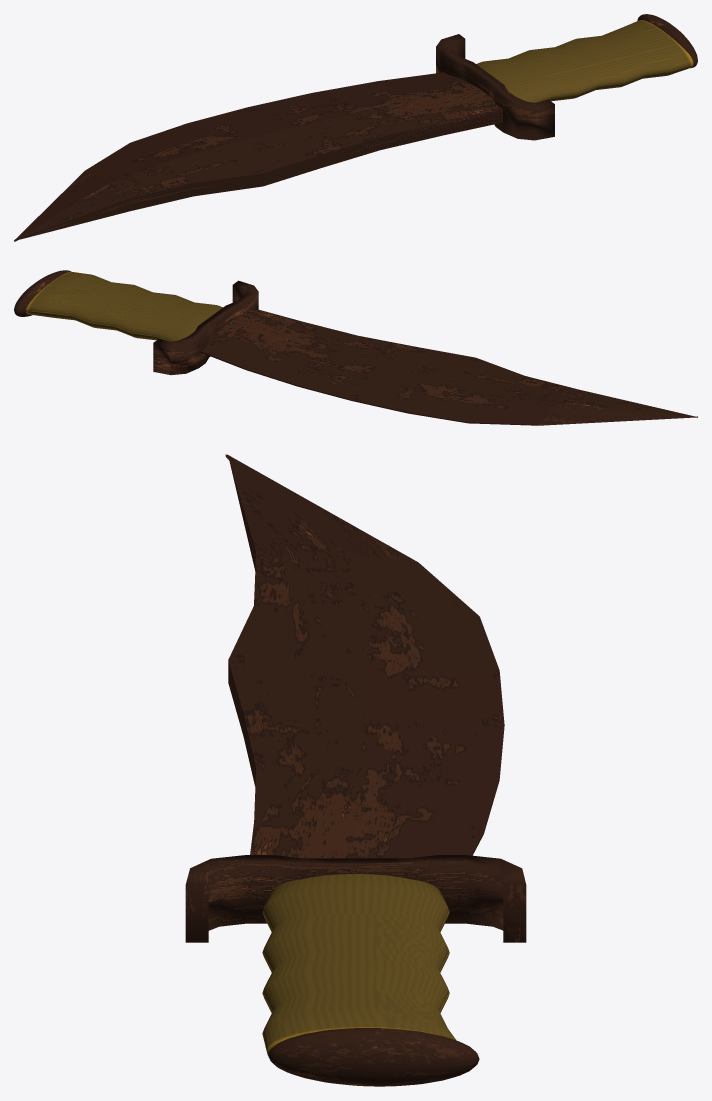
File: knife.obj
3 views of the same model, one above another, from view 1: azimuth 30°, elevation 25°; view 2: azimuth 150°, elevation 25°; view 3: azimuth 270°, elevation 25° (orthographic). The views are drawn at different scales.
Visible parts, largest first — view 1: Cube, Cylindre, Cube.001, Sphère; view 2: Cube, Cylindre, Cube.001, Sphère; view 3: Cube, Cylindre, Cube.001, Sphère.
Part boxes in pixels (bbox=[...]): Cube: bbox=[14, 72, 502, 241]; Cylindre: bbox=[476, 20, 693, 102]; Cube.001: bbox=[436, 34, 554, 140]; Sphère: bbox=[637, 14, 697, 68]; Cube: bbox=[201, 308, 697, 425]; Cylindre: bbox=[25, 271, 222, 341]; Cube.001: bbox=[153, 280, 258, 375]; Sphère: bbox=[14, 270, 70, 316]; Cube: bbox=[225, 454, 504, 858]; Cylindre: bbox=[262, 874, 456, 1057]; Cube.001: bbox=[185, 855, 526, 942]; Sphère: bbox=[268, 1028, 479, 1086].
Size of the model in its own units: 0.5674 by 0.025 by 0.1333.
